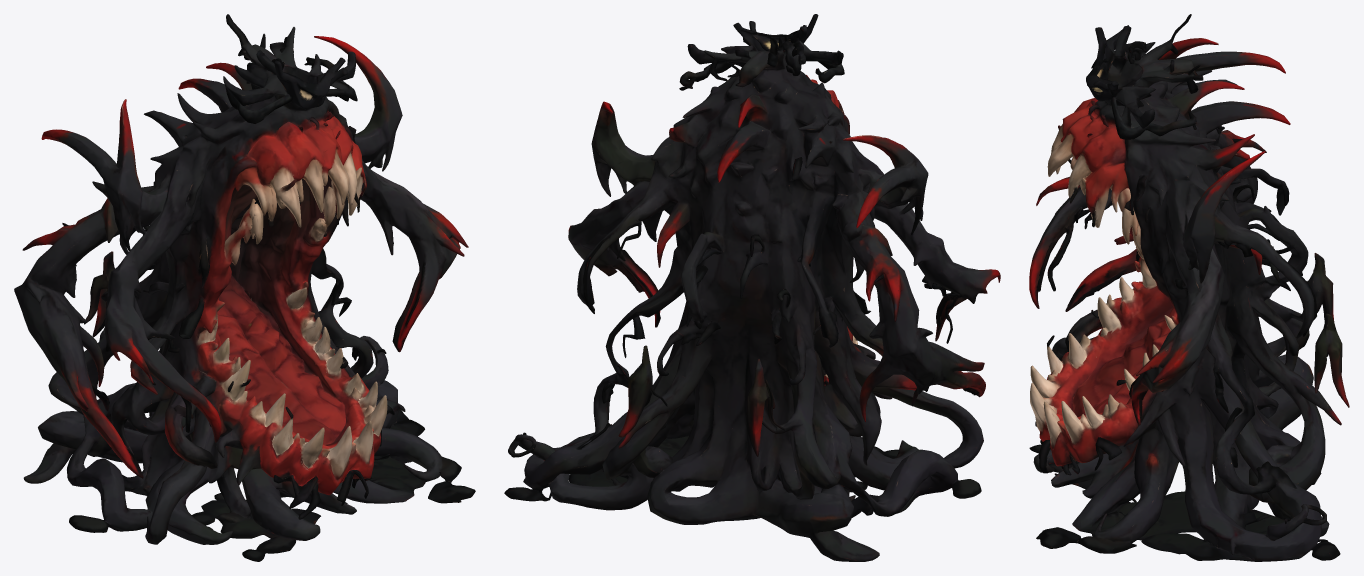
The model's file is duskmaw_true_form_proxy.glb.
3 views of the same model, side by side, from view 1: azimuth 30°, elevation 25°; view 2: azimuth 150°, elevation 25°; view 3: azimuth 270°, elevation 25° (orthographic). The views are drawn at different scales.
Bounding box in the file's own units: 0.819 × 0.9174 × 0.5792.
1 material, 1 textured.
